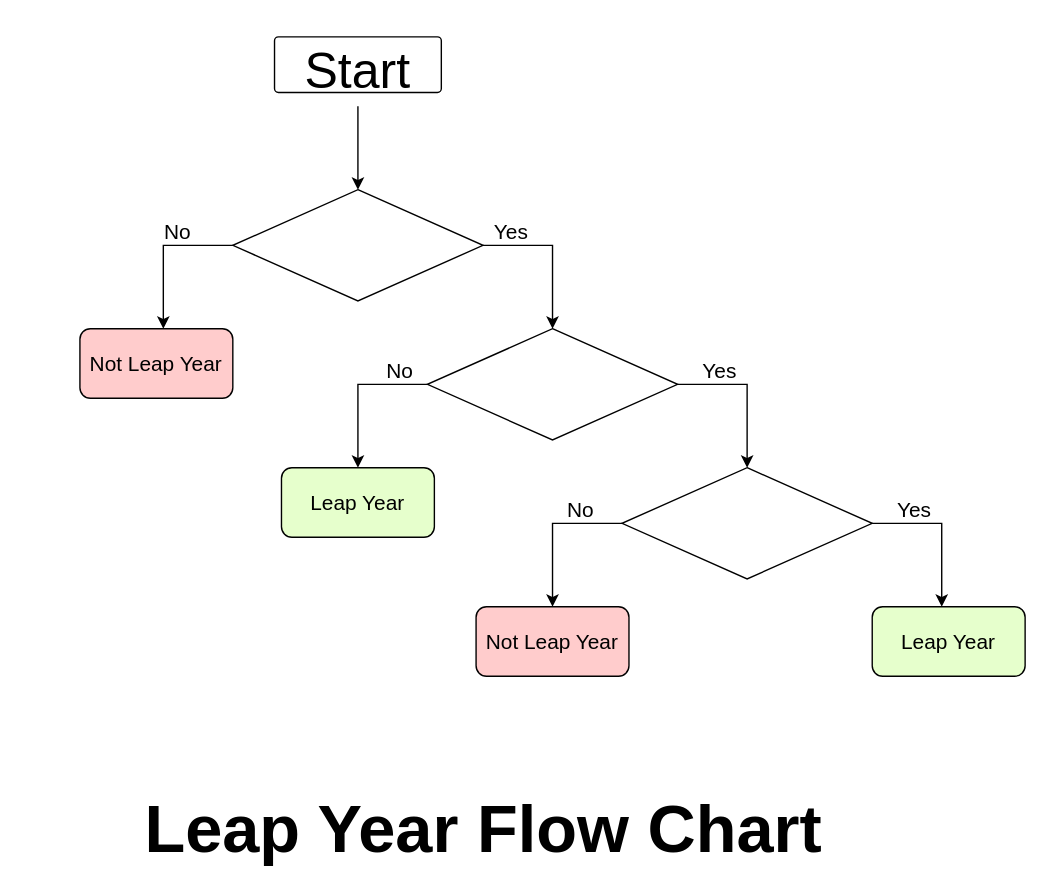
The diagram is 1049 pixels wide and 892 high, and some of its shapes have lost their labels. The centre of each missing label's shape, as x and y in pixels:
"Is it Cleanly Divisible by 100?" belongs at pixel 552 383.
"Is it Cleanly Divisible by 400?" belongs at pixel 746 522.
"Is it Cleanly Divisible by 4?" belongs at pixel 357 244.
